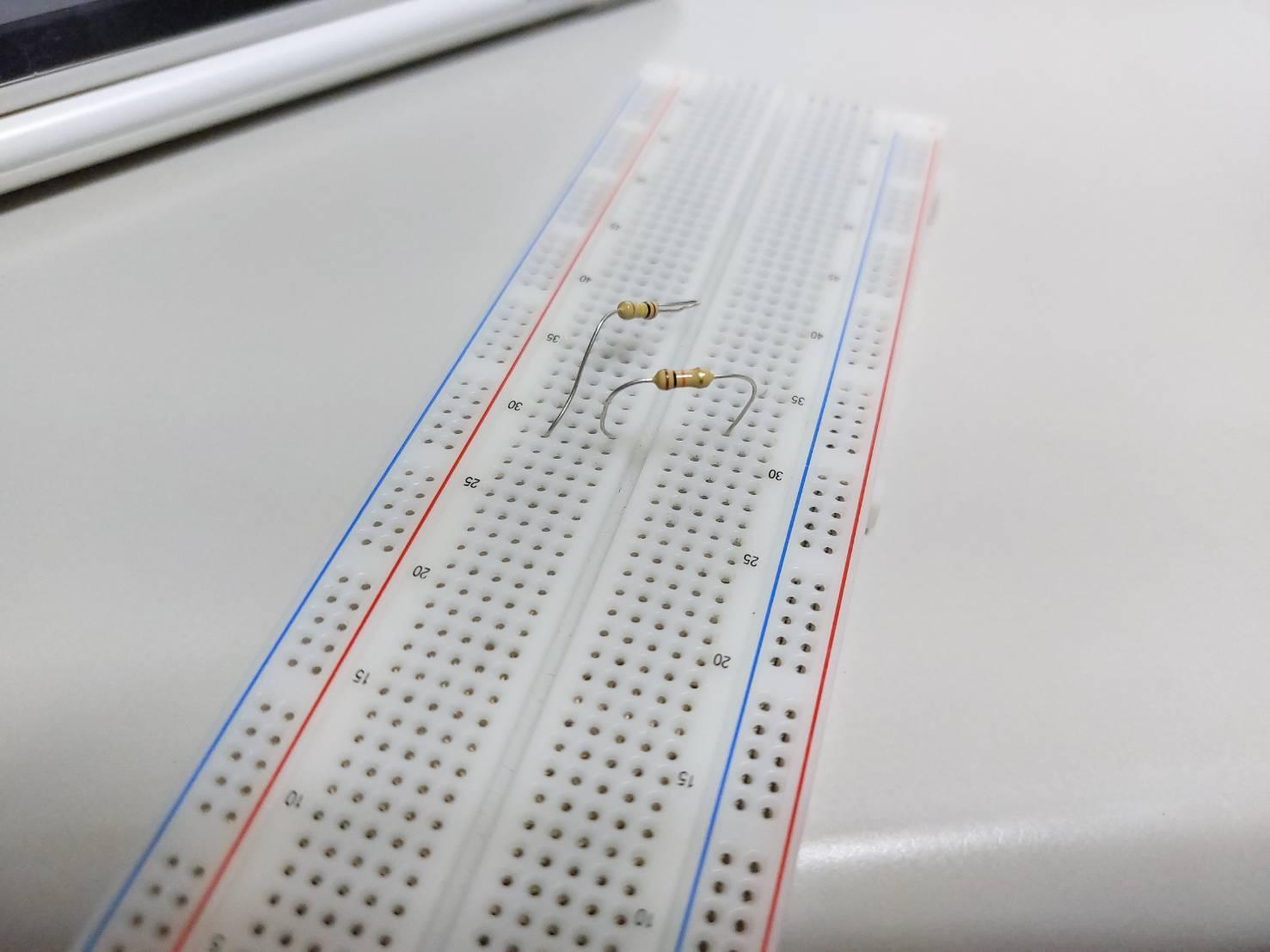resistor: (653, 367, 713, 390), (617, 300, 661, 320)
